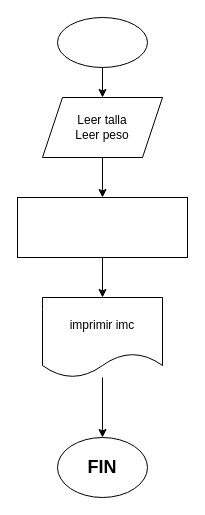
This 205x515 diagram has some shape labels left out. Here are the shapes that lost their labels. From the top down, the centre of each, then its label:
At point (102, 42): "INICIO".
At point (102, 227): "imc = peso / (altura * altura)".
